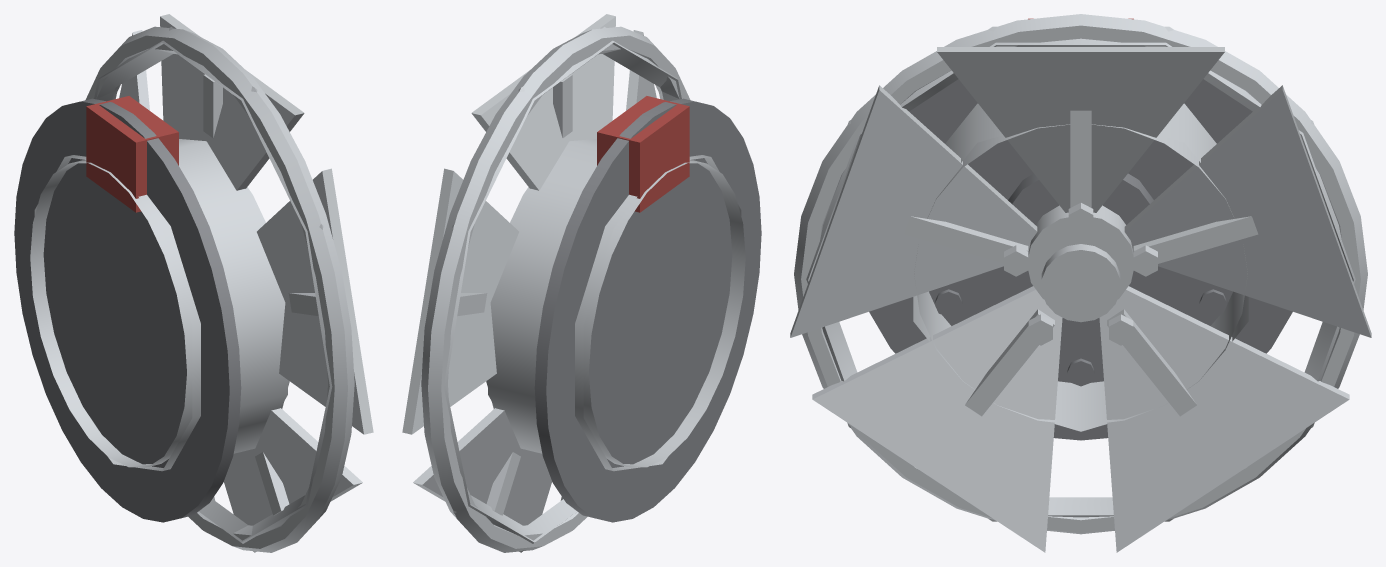
Rendered from wh-mono.glb.
The picture shows the model from 3 angles, left to right: view 1: azimuth 30°, elevation 25°; view 2: azimuth 150°, elevation 25°; view 3: azimuth 270°, elevation 25°; orthographic projection. The views are drawn at different scales.
Parts seen in each view (by area): view 1: Rotor, Chrome, ChromeLOD, Caliper; view 2: Rotor, Chrome, ChromeLOD, Caliper; view 3: Chrome, Rotor, ChromeLOD.
Part boxes in pixels (x1,y1,x2,y2): Rotor: [14, 98, 241, 522]; Chrome: [30, 14, 373, 552]; ChromeLOD: [34, 27, 332, 552]; Caliper: [86, 96, 178, 212]; Rotor: [534, 98, 761, 522]; Chrome: [402, 14, 745, 552]; ChromeLOD: [443, 27, 741, 552]; Caliper: [597, 96, 689, 212]; Chrome: [790, 14, 1371, 552]; Rotor: [869, 79, 1292, 440]; ChromeLOD: [806, 26, 1355, 521].
Size of the model in its own units: 0.1342 by 0.4944 by 0.4946.
